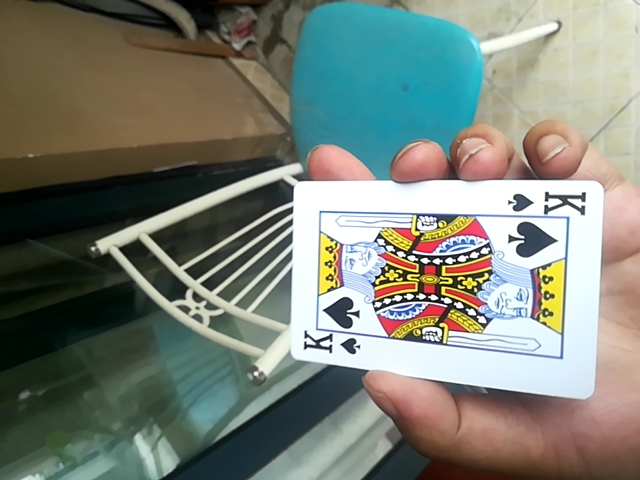ht k: (281, 178, 610, 401)
